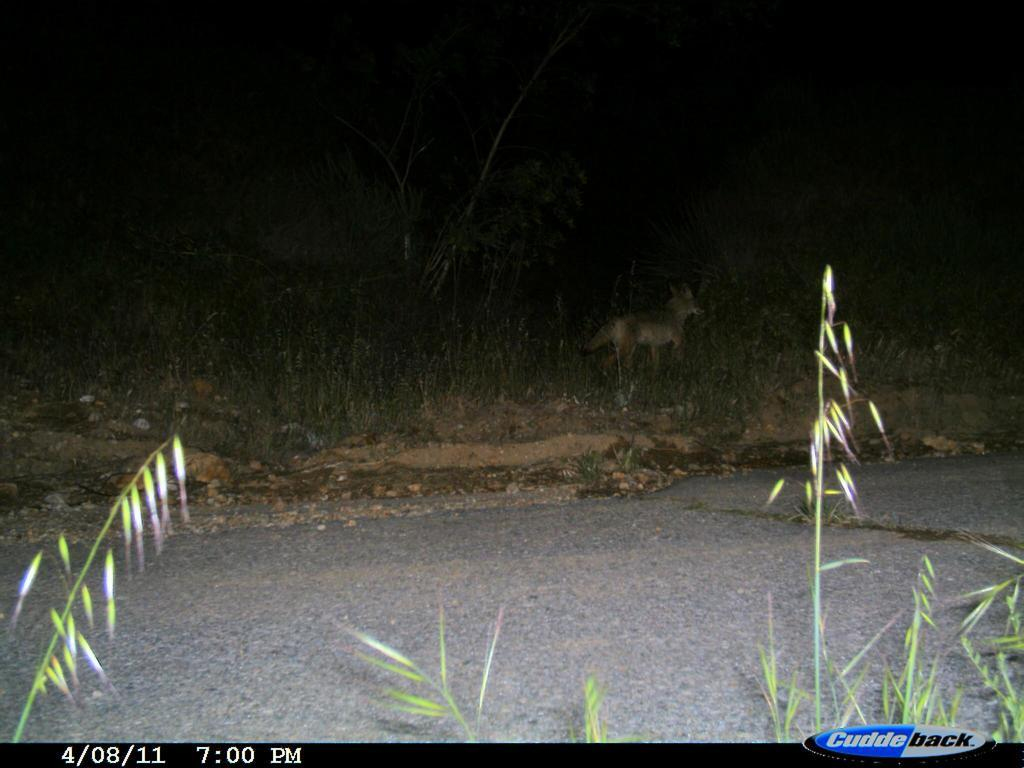coyote: (573, 278, 707, 395)
